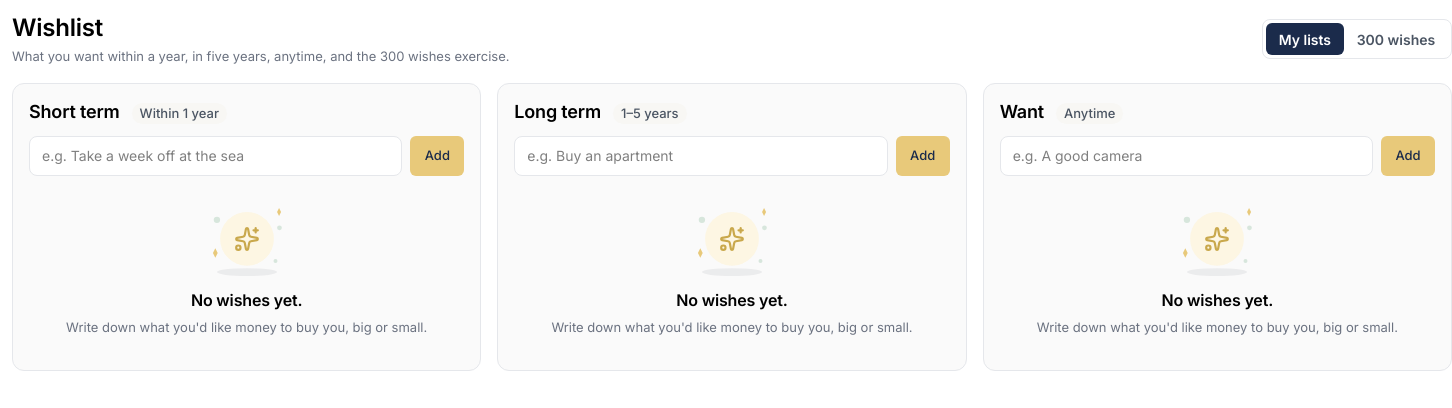
Test: WishlistPage › says when the AI check could not run
This screenshot has width=1452, height=408.
Expected: the element "Short term" is shown, [12,83,481,371]
Click the button "300 wishes".
click(1396, 39)  # box [1344,23,1448,56]
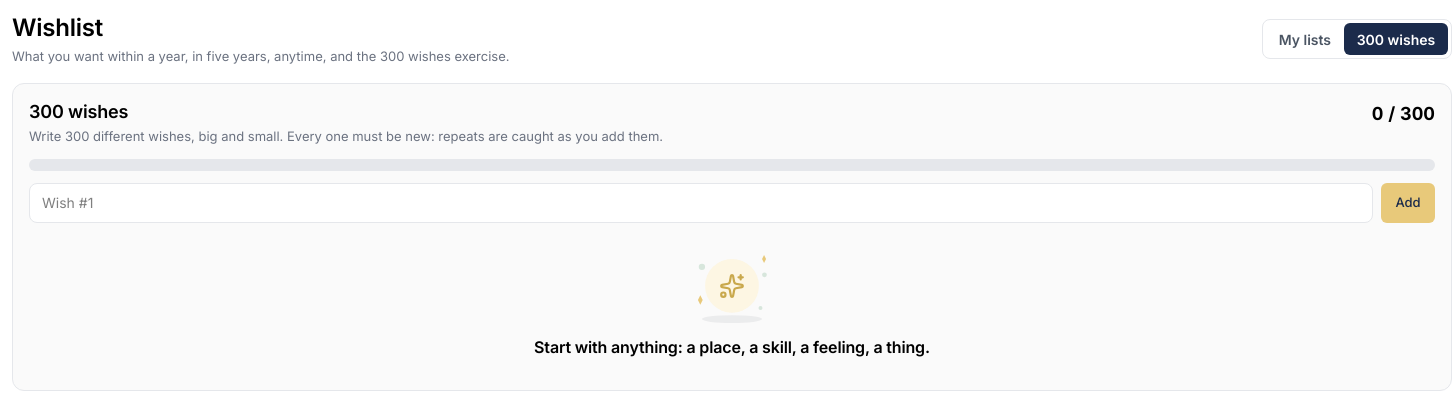
Type "Fly a plane" into the field named "New wish".
click(701, 203); type("Fly a plane")  # box [29,183,1373,223]
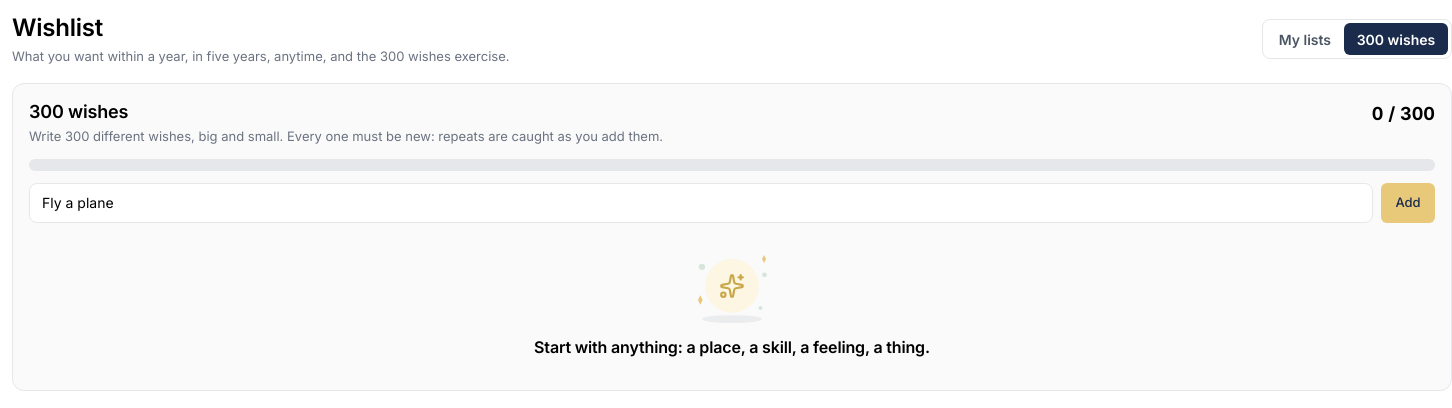
Click the button "Add".
click(1408, 203)  # box [1381,183,1435,223]
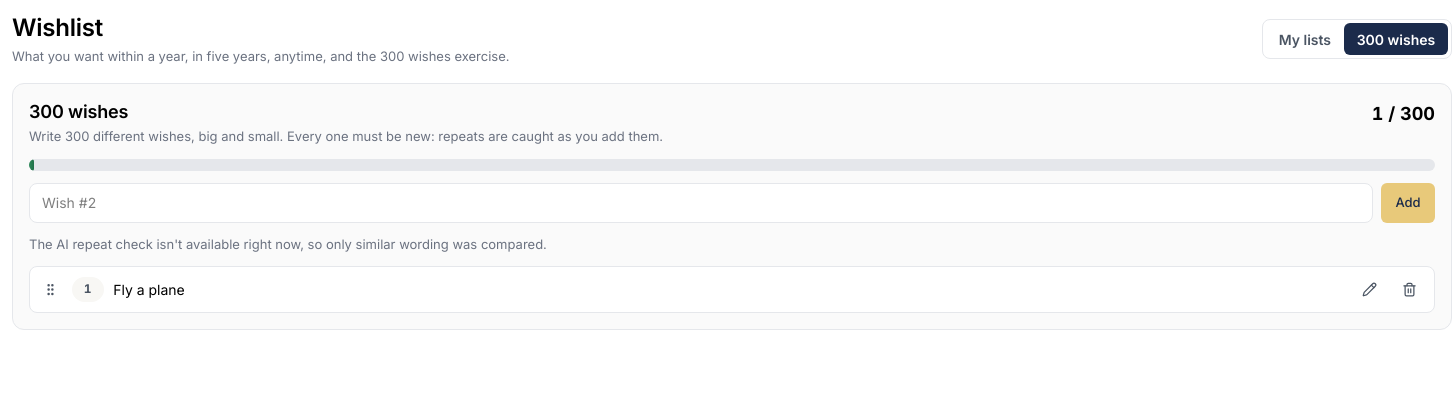
Now the text "Fly a plane" is shown, box [113,281,185,298]
Now the element "300 wishes" shows "The AI repeat check isn't available right now", box [29,236,547,252]
